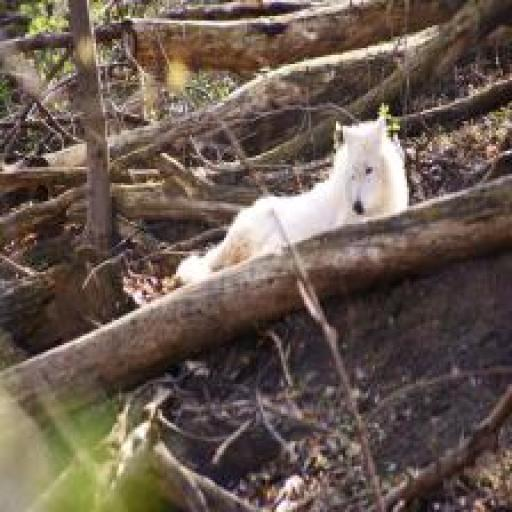wolf: (174, 112, 409, 288)
